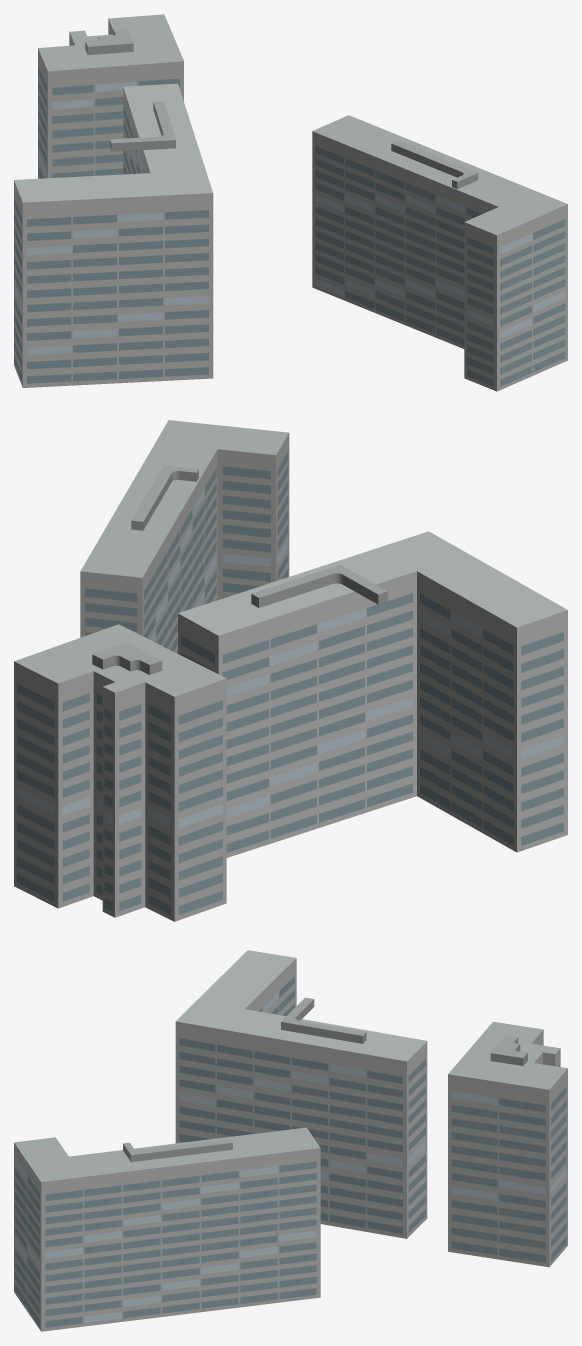
Rendered from apt-a13707002.glb.
3 renders of one model, top to bottom at view 1: azimuth 30°, elevation 25°; view 2: azimuth 150°, elevation 25°; view 3: azimuth 270°, elevation 25°, orthographic. The views are drawn at different scales.
Visible parts, largest first — view 1: apt-a13707002; view 2: apt-a13707002; view 3: apt-a13707002.
Boxes of the visible parts, box(x1,y1,x2,y2) form: apt-a13707002: box(14, 14, 567, 391); apt-a13707002: box(14, 420, 567, 921); apt-a13707002: box(14, 950, 567, 1331).
Size of the model in its own units: 97.81 by 41.43 by 112.
